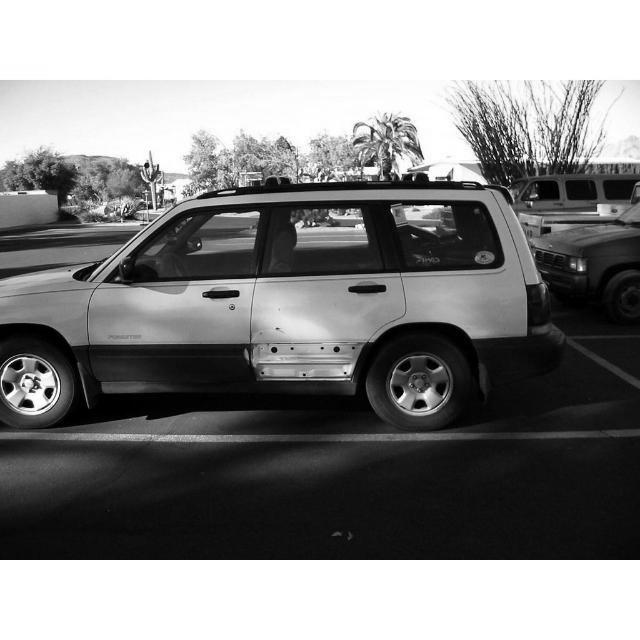doorouter-dent: (248, 285, 399, 385), (92, 289, 241, 385)
